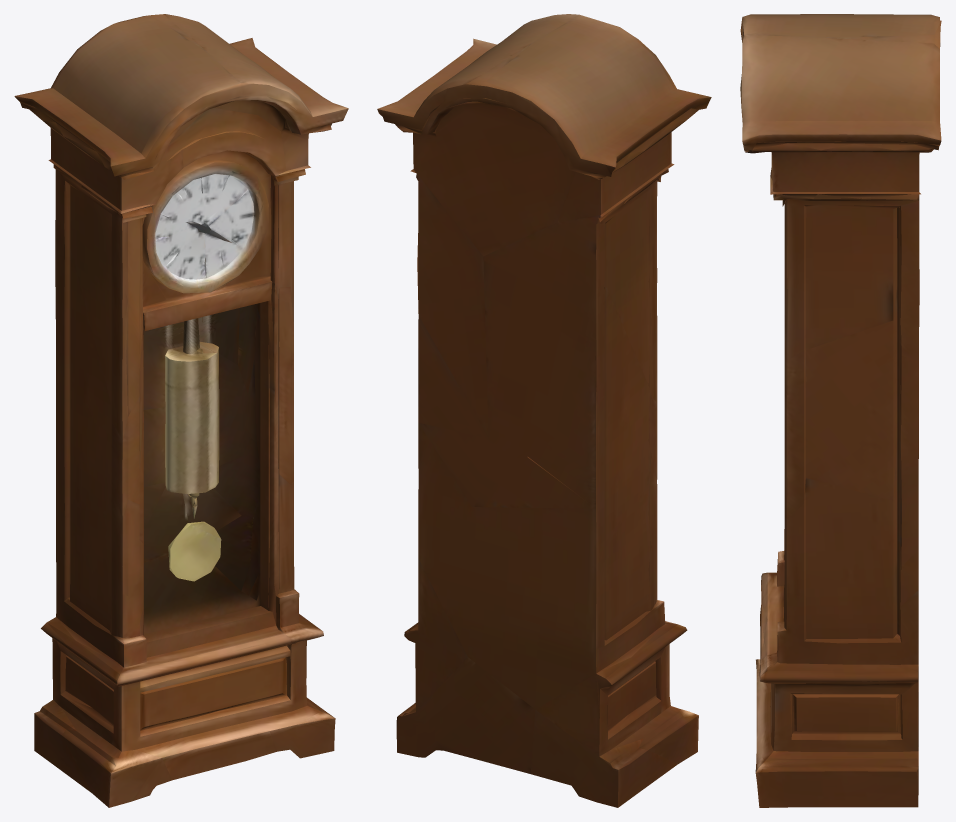
Rendered from grandfatherClock.glb.
The picture shows the model from 3 angles, left to right: view 1: azimuth 30°, elevation 25°; view 2: azimuth 150°, elevation 25°; view 3: azimuth 270°, elevation 25°; orthographic projection. The views are drawn at different scales.
Parts seen in each view (by area): view 1: model; view 2: model; view 3: model.
Part boxes in pixels (x1,y1,x2,y2): model: (14, 14, 348, 807); model: (377, 14, 711, 807); model: (740, 14, 941, 807).
Size of the model in its own units: 0.6763 by 1.9 by 0.4774.
1 material, 1 textured.
